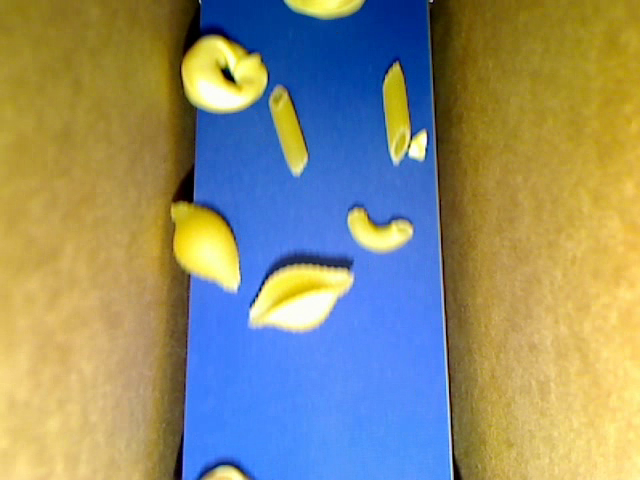elbow: (345, 205, 413, 255)
penne: (268, 82, 308, 177), (382, 60, 411, 167)
shell: (247, 263, 354, 332), (170, 201, 240, 293)
tortellini: (180, 35, 268, 114)
